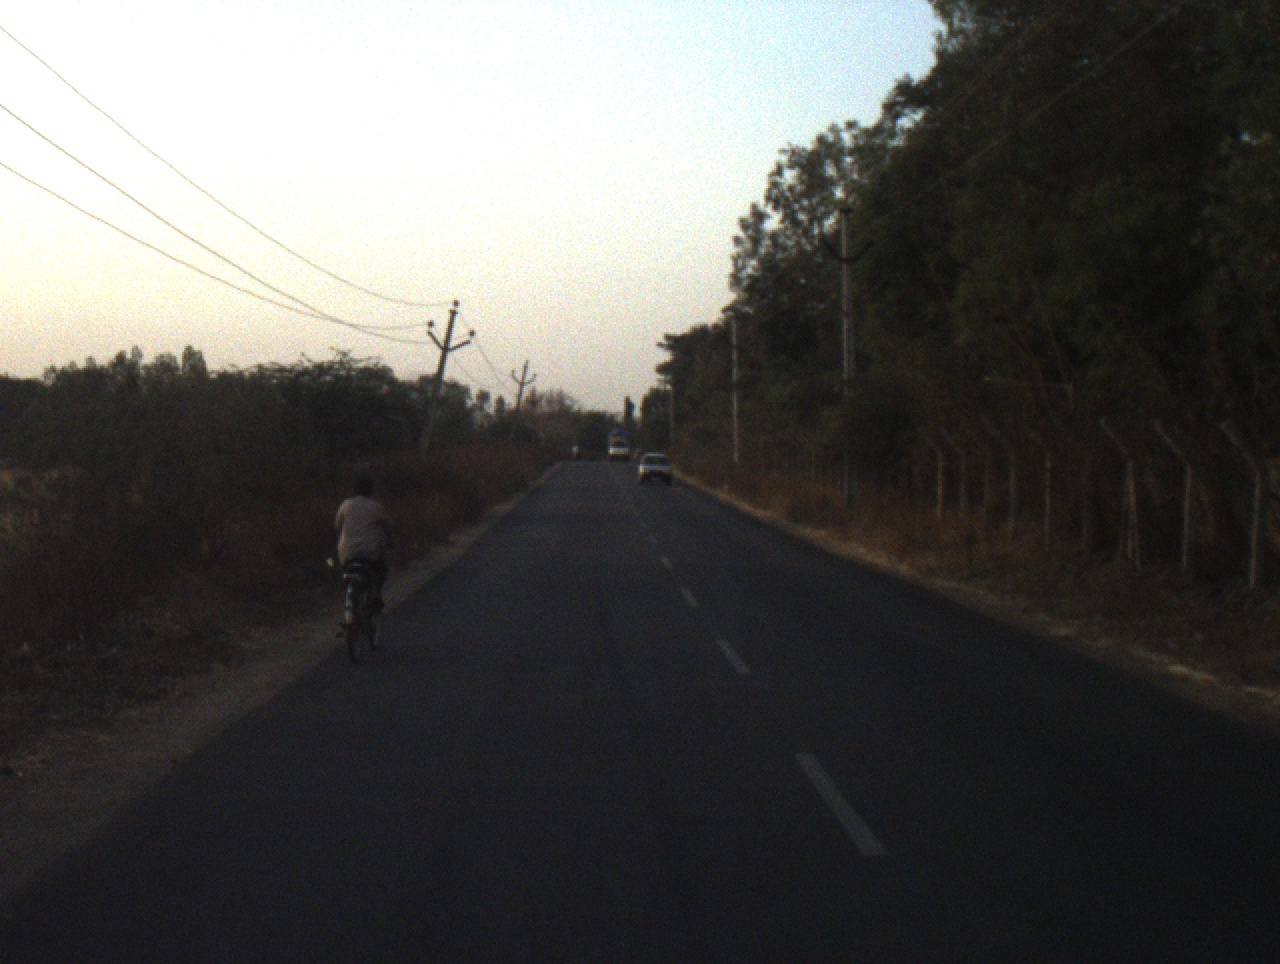bicycle: (336, 557, 388, 663)
car: (638, 448, 676, 487)
motorcycle: (572, 450, 580, 461)
rider: (330, 474, 394, 619), (572, 442, 579, 452)
truck: (605, 424, 633, 462)
